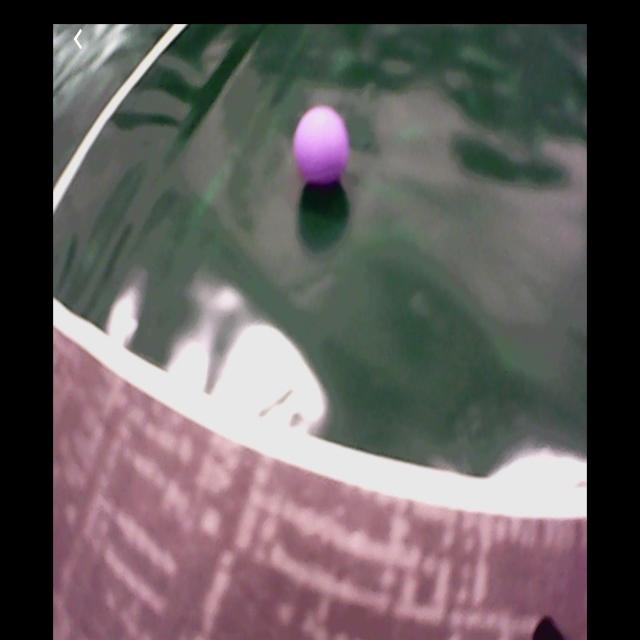ball: (292, 104, 349, 185)
